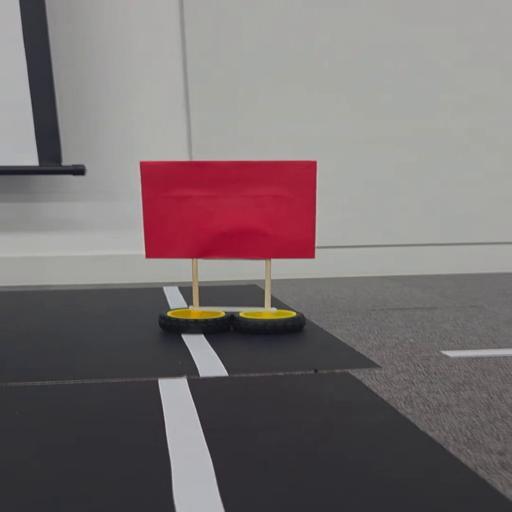Sign_A: (124, 155, 340, 345)
